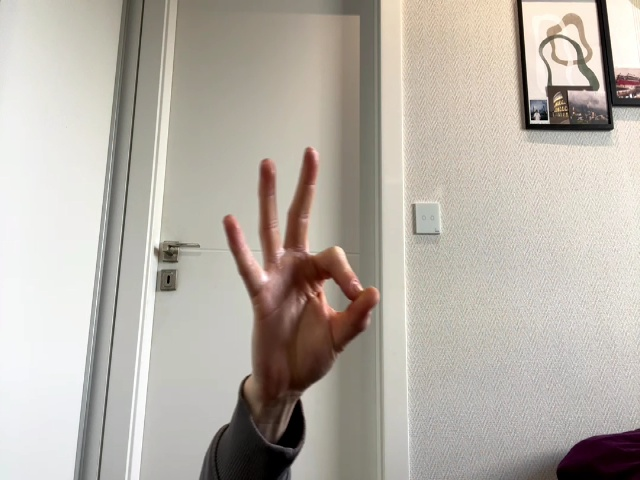O: (224, 146, 380, 395)
